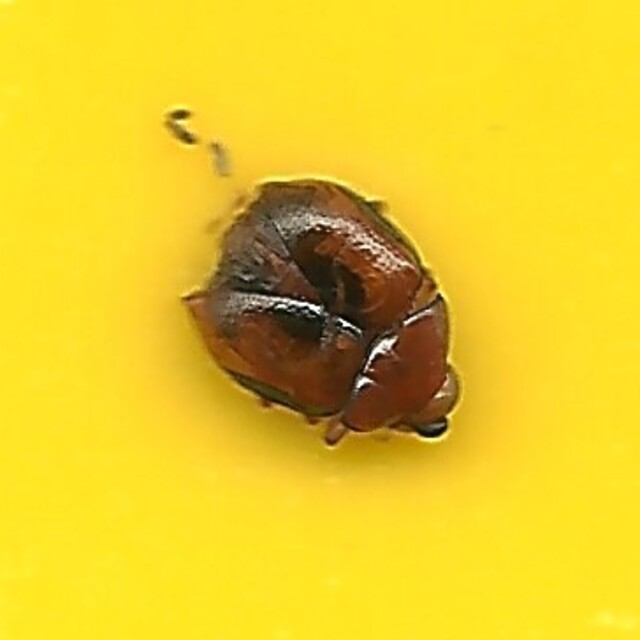Coleoptera: (176, 186, 464, 454)
